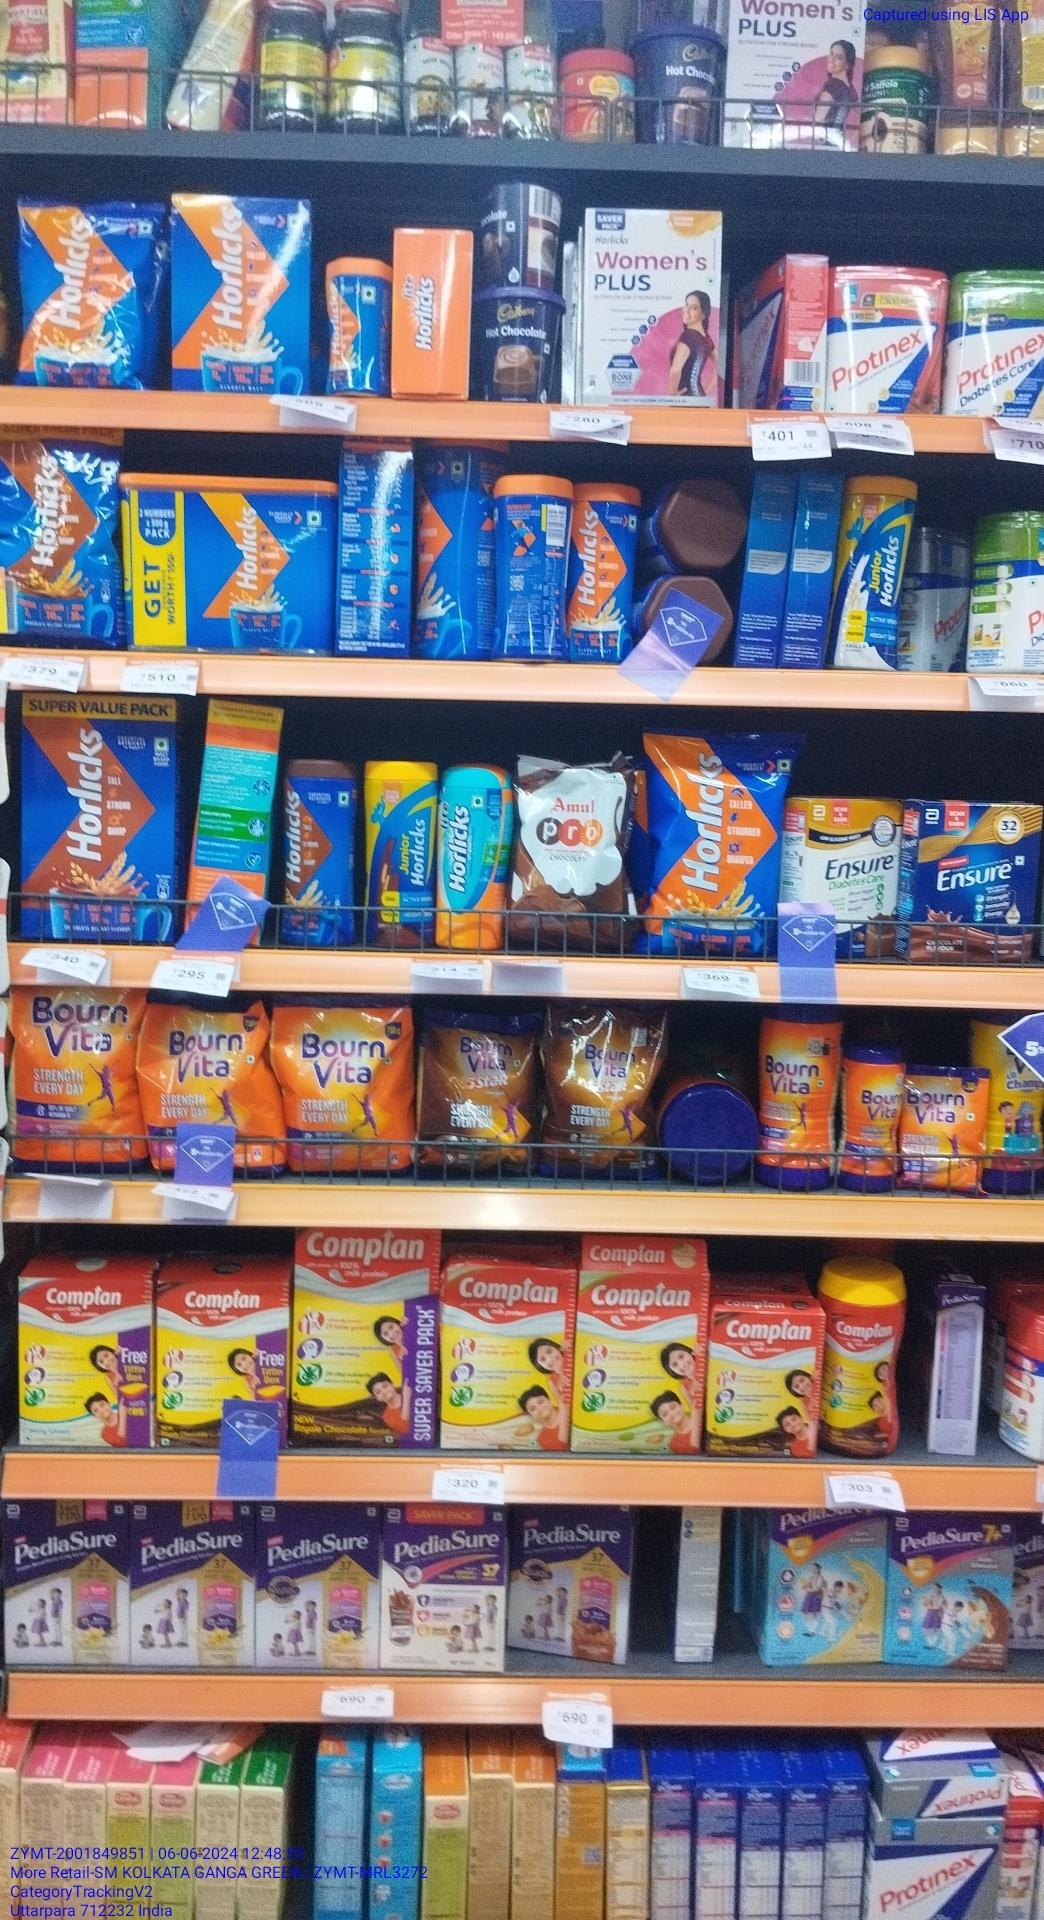BOURN_VITA_200_G_JAR: (841, 1046, 896, 1190)
BOURN_VITA_75_G_POUCH: (905, 1067, 985, 1194)
BOURN_VITA_FIVE_STAR_MAGIC_500_G_POUCH: (420, 1013, 534, 1176)
BOURN_VITA_FIVE_STAR_MAGIC_750_G_POUCH: (546, 1000, 658, 1177)
COMPLAN_CHOCOLATE_200_GMS_PACK: (711, 1312, 819, 1459)
COMPLAN_CHOCOLATE_500_GMS_JAR: (823, 1277, 897, 1455)
COMPLAN_CREAMY_CLASSIC_500_G_PACK: (15, 1275, 150, 1444)
COMPLAN_PISTA_BADAM_500_GMS_PACK: (575, 1272, 707, 1460)
HORLICKS_JUNIOR_VANILLA_500_GM_JAR: (841, 472, 910, 673)
HORLICKS_LITE_REGULAR_MALT_500_GM_JAR: (437, 767, 503, 954)
HORLICK_CHOCOLATE_1_KG_PACK: (18, 693, 181, 937)
HORLICK_CHOCOLATE_500_G_JAR: (284, 762, 355, 951)
HORLICK_CLASSIC_MALT_200_G_JAR: (323, 256, 387, 396)
HORLICK_MALT_1_KG_CONTAINER: (123, 467, 328, 657)
PEDIASURE_7_PLUS_CHOCOLATE_400_G_PACK: (888, 1510, 1013, 1669)
PEDIASURE_CHOCOLATE_500_G_PACK: (510, 1501, 625, 1658)
PEDIASURE_VANILLA_500_G_PACK: (0, 1496, 127, 1669), (256, 1502, 377, 1668), (132, 1501, 252, 1666)
PROTINEX_CHOCOLATE_400_G_JAR: (831, 263, 940, 414)
